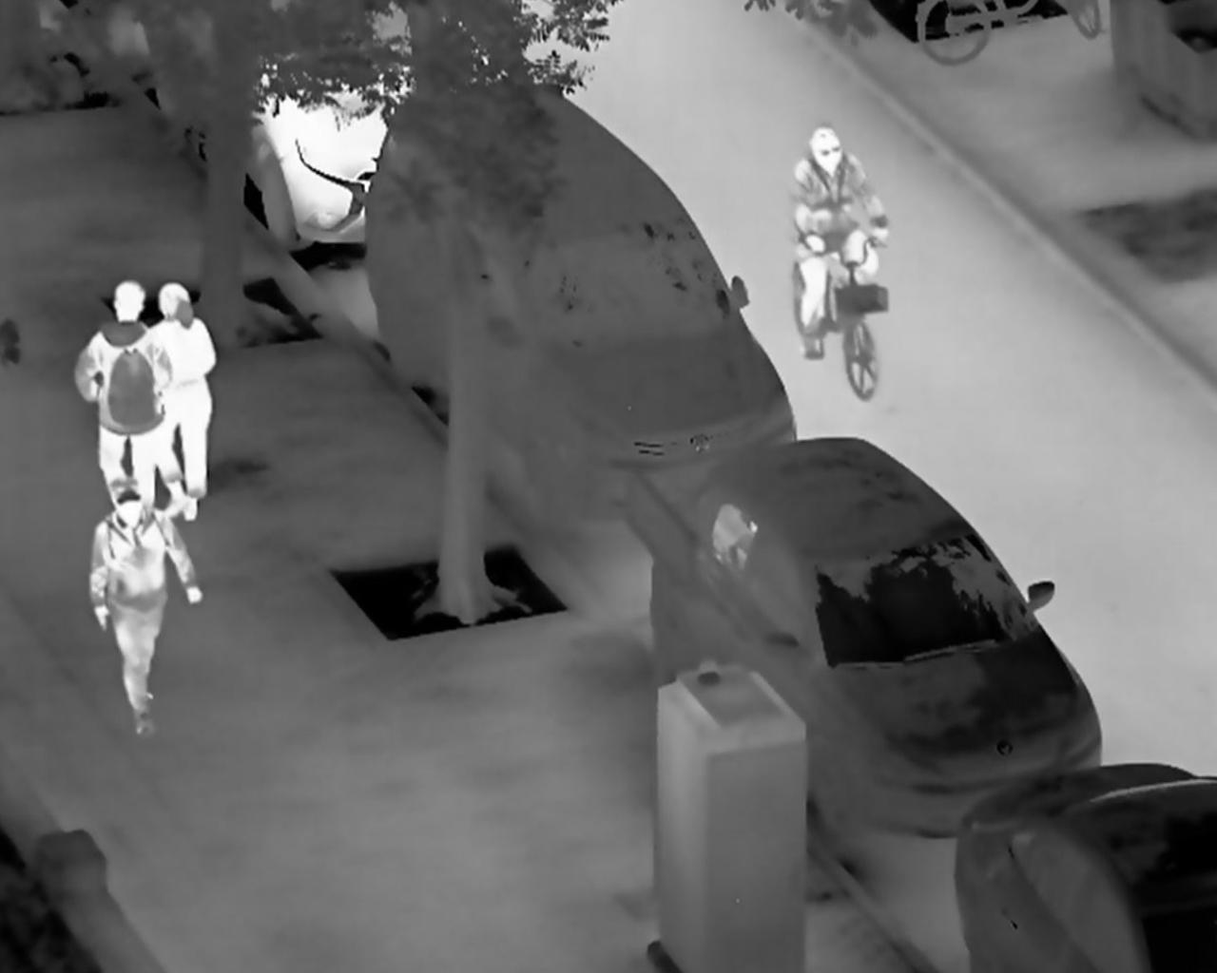person: (84, 479, 208, 740), (72, 277, 173, 517), (790, 122, 891, 359), (140, 281, 218, 503)
